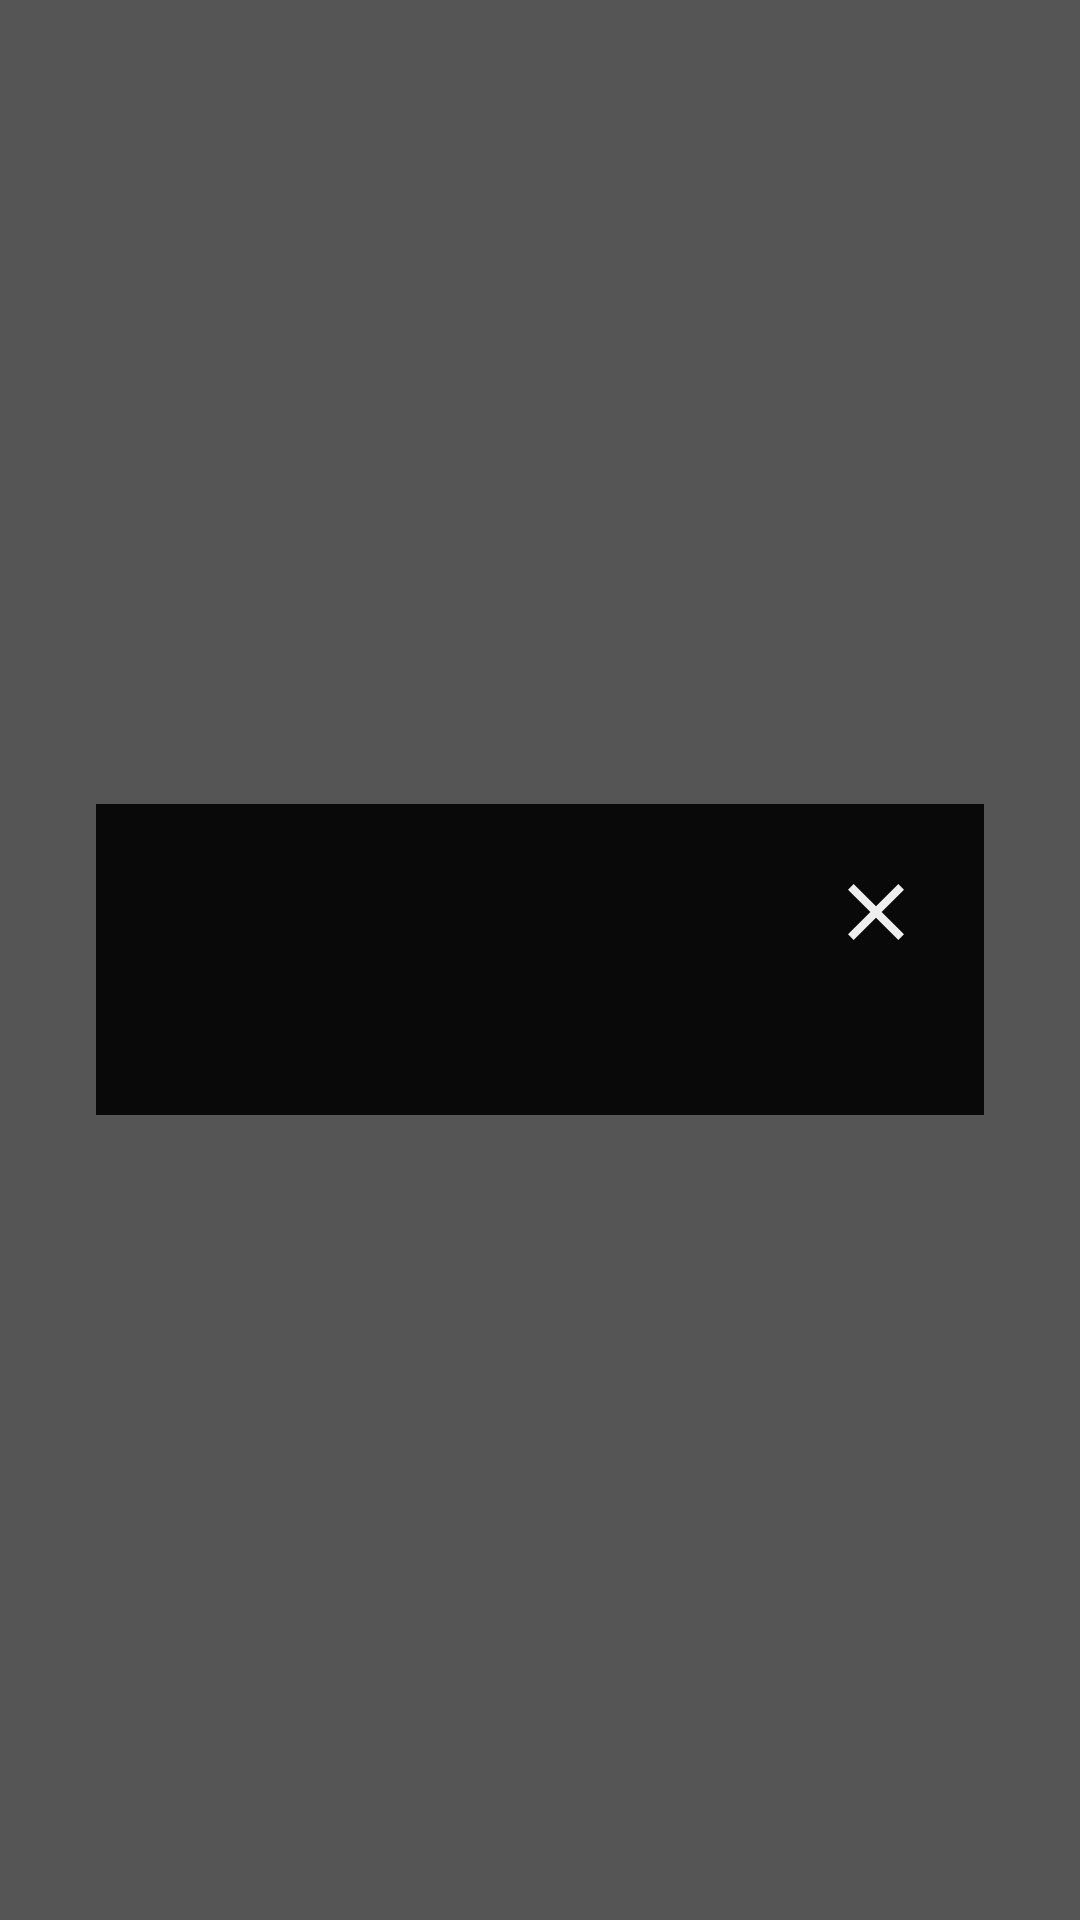

Where icons sit on this 1080px×1920px app screen, as (x1, y1, x2, y2):
close: (848, 884, 904, 940)
